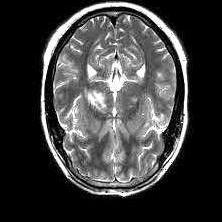Normal_Brain: (31, 7, 205, 221)
